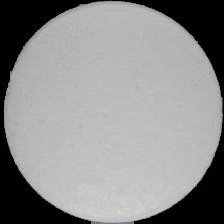0615-7639: (0, 0, 224, 224)
